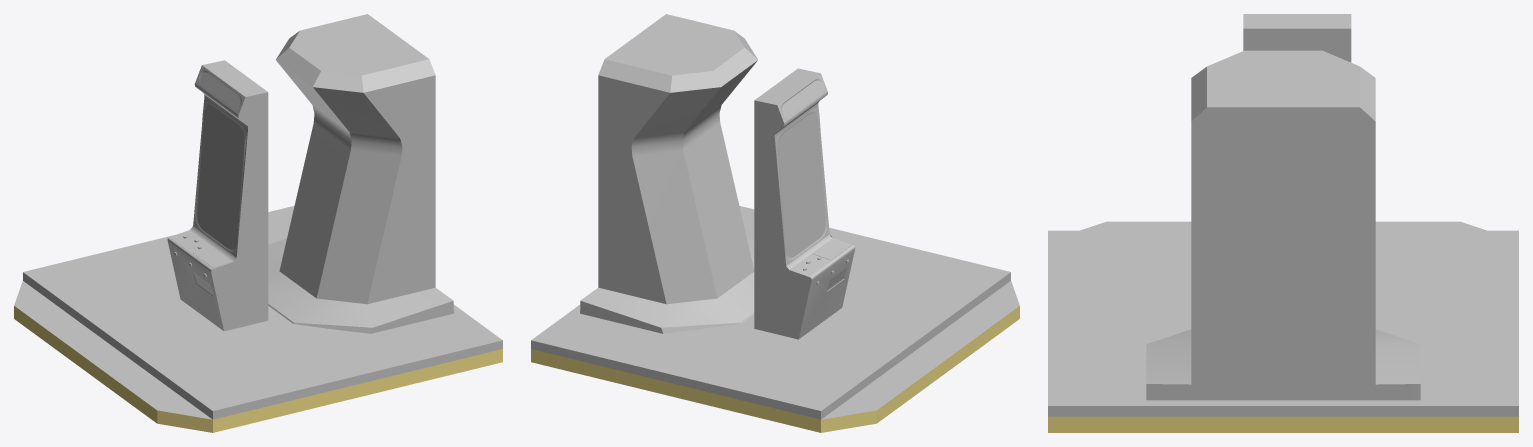
The model's file is Gaming screen.fbx.
3 renders of one model, left to right at view 1: azimuth 30°, elevation 25°; view 2: azimuth 150°, elevation 25°; view 3: azimuth 270°, elevation 25°, orthographic. The views are drawn at different scales.
Parts seen in each view (by area): view 1: Textplate12, polySurface156, polySurface158, Emmesive, screen; view 2: Textplate12, polySurface156, polySurface158, Emmesive, screen; view 3: Textplate12, polySurface156, Emmesive, polySurface158.
Part boxes in pixels (x1,y1,x2,y2): Textplate12: (268,14,453,333); polySurface156: (14,206,502,419); polySurface158: (167,60,268,331); Emmesive: (14,306,502,432); screen: (197,105,244,249); Textplate12: (580,14,757,333); polySurface156: (531,206,1019,419); polySurface158: (754,68,855,339); Emmesive: (531,306,1019,432); screen: (778,113,825,257); Textplate12: (1146,50,1420,400); polySurface156: (1048,221,1518,416); Emmesive: (1048,416,1518,432); polySurface158: (1243,14,1351,62).
Size of the model in its own units: 413 by 317 by 422.
